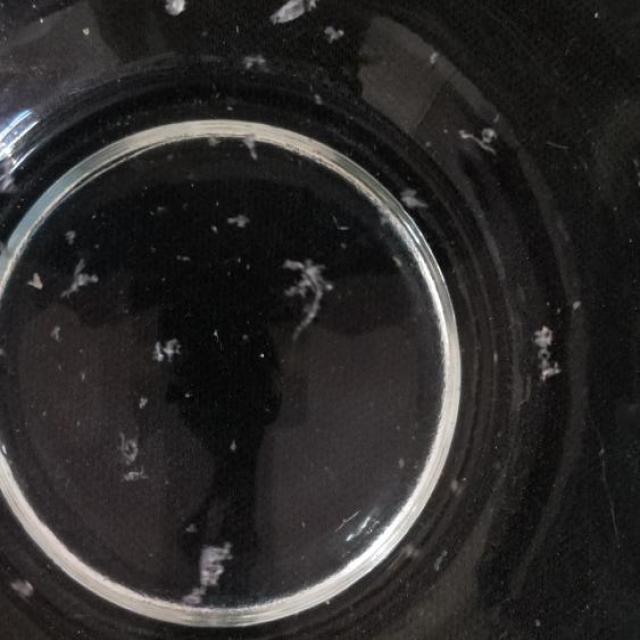fiber: (286, 246, 336, 338), (176, 536, 239, 597), (444, 118, 511, 166), (528, 314, 562, 384), (264, 0, 324, 30), (63, 262, 100, 310), (104, 434, 149, 468), (398, 183, 440, 217), (150, 328, 177, 377), (8, 572, 40, 609), (238, 48, 272, 81), (320, 17, 348, 50), (116, 464, 153, 485), (0, 231, 22, 266), (238, 130, 266, 157), (130, 387, 156, 416), (44, 310, 66, 344), (22, 268, 48, 296), (62, 220, 86, 250), (226, 207, 249, 236), (167, 0, 193, 20), (204, 127, 226, 149)
